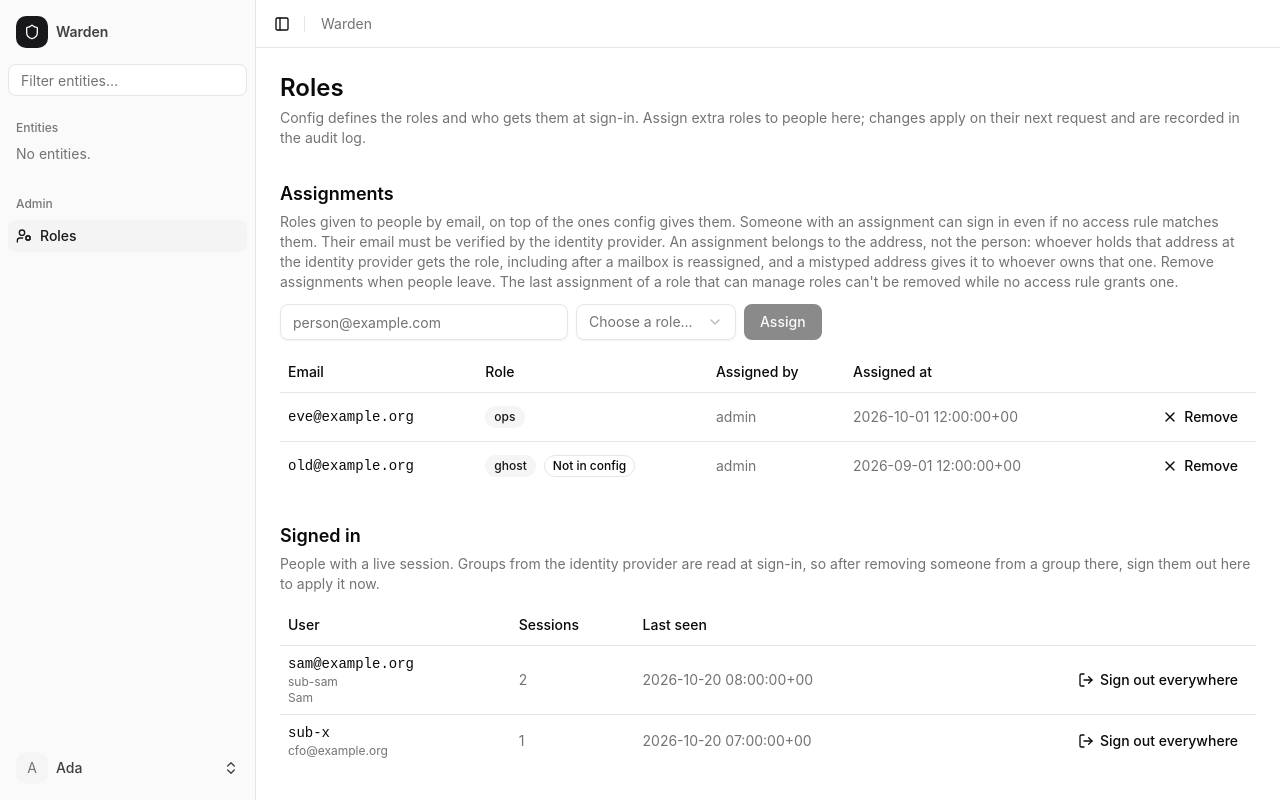
roles page › shows the server's reason when an assignment is rejected
Type "eve@example.org" into the field named "Email" at (424, 322), box [280, 304, 568, 340]
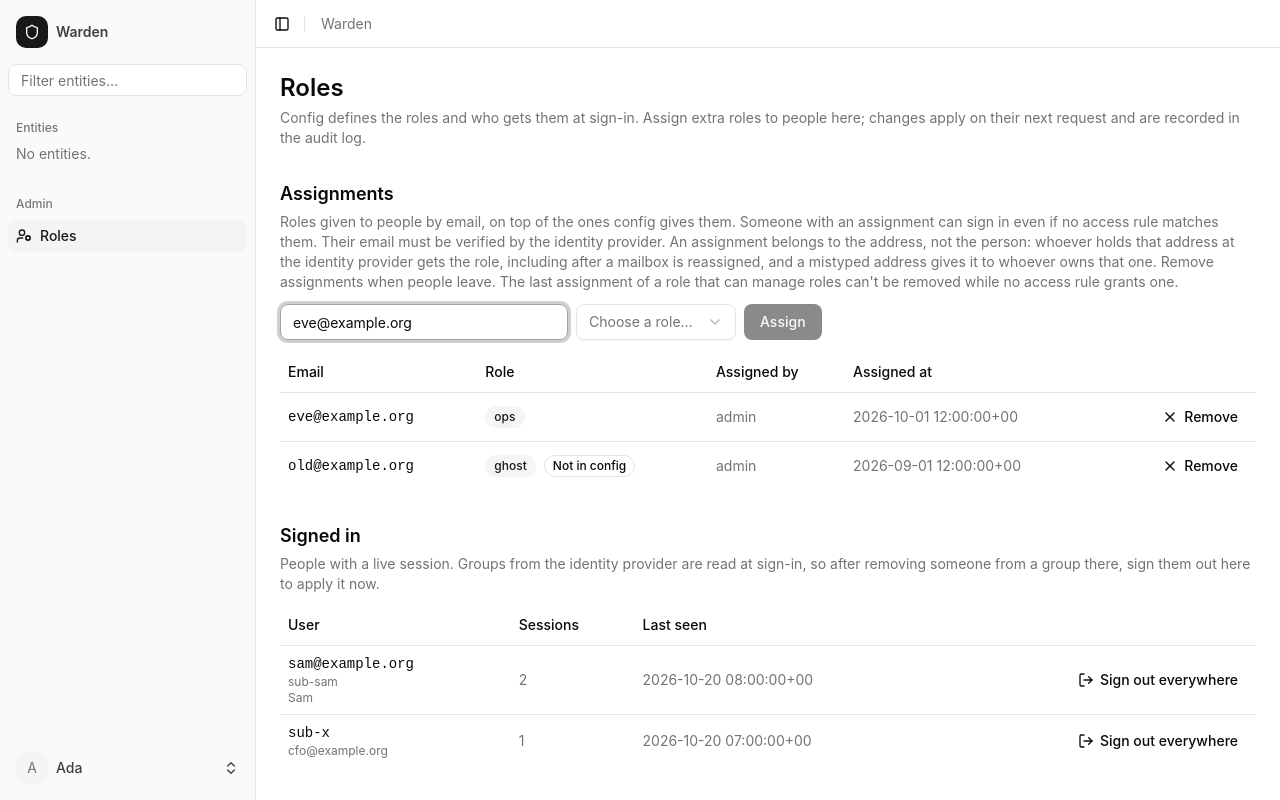
Click the dropdown labelled "role" at (656, 322), box [576, 304, 736, 340]
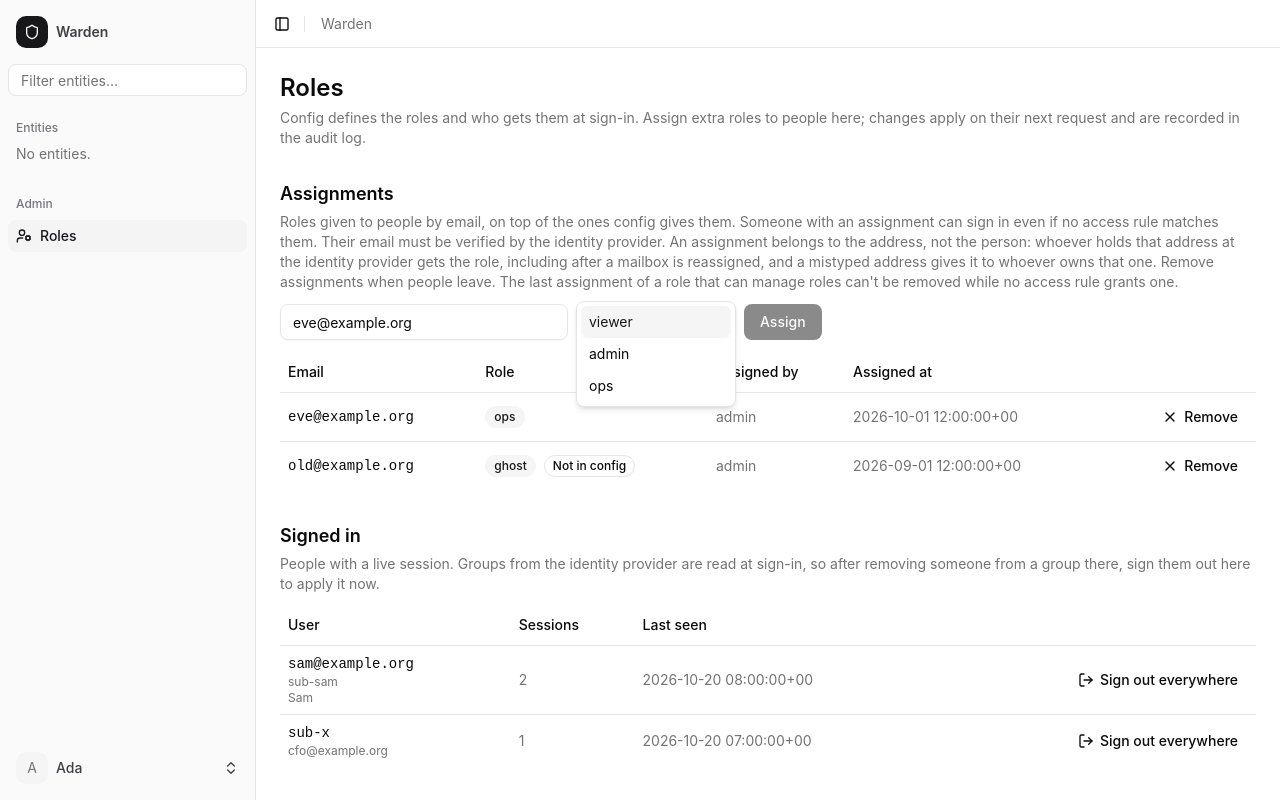
Click the option "ops" at (601, 386), box [589, 377, 613, 394]
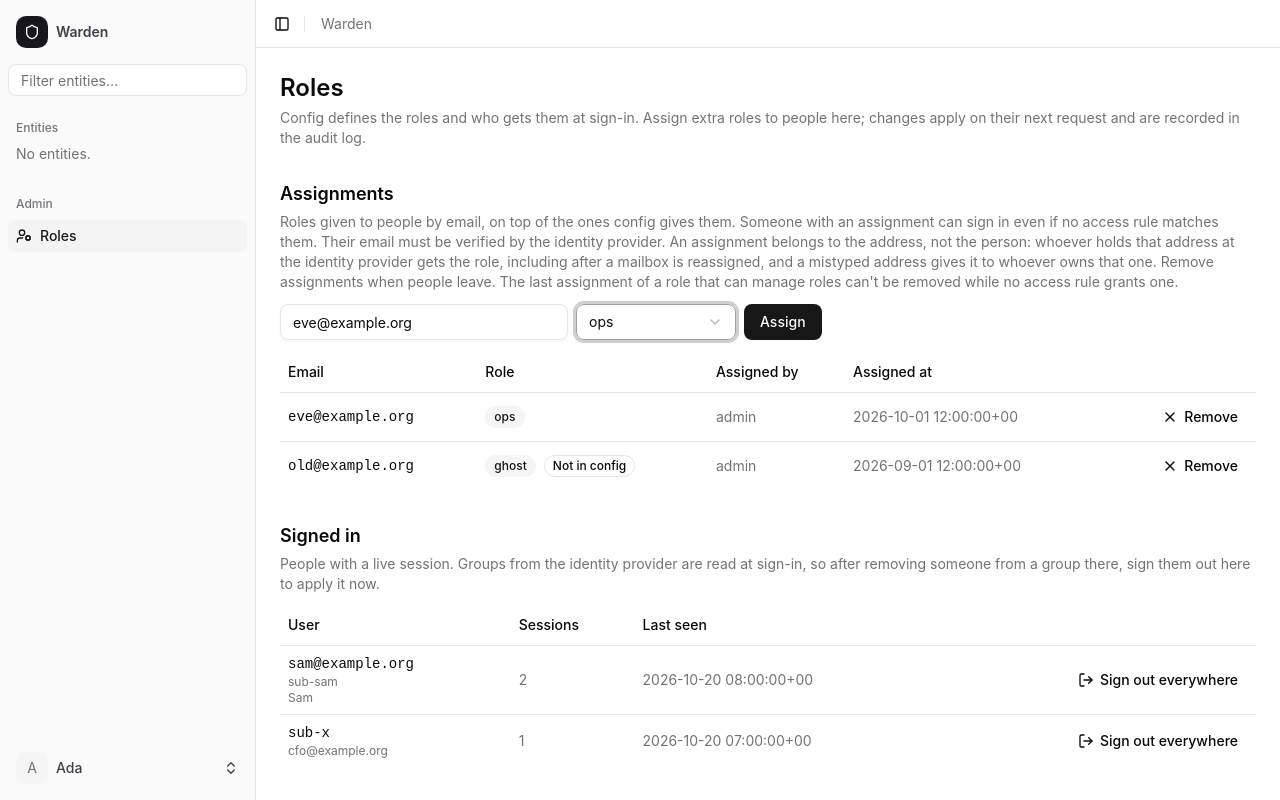
Click the button "Assign" at (783, 322), box [744, 304, 822, 340]
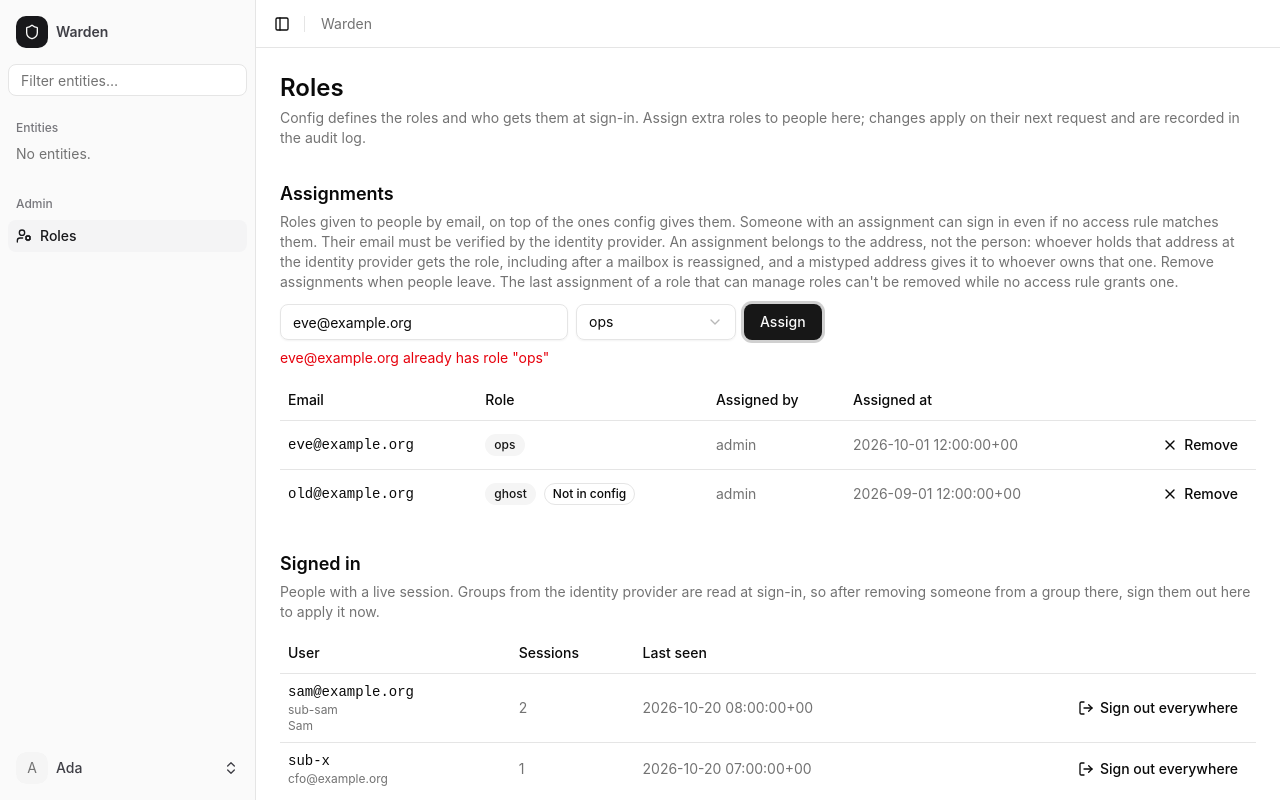
Now the message shows "already has role \"ops\"", box [280, 349, 549, 366]
